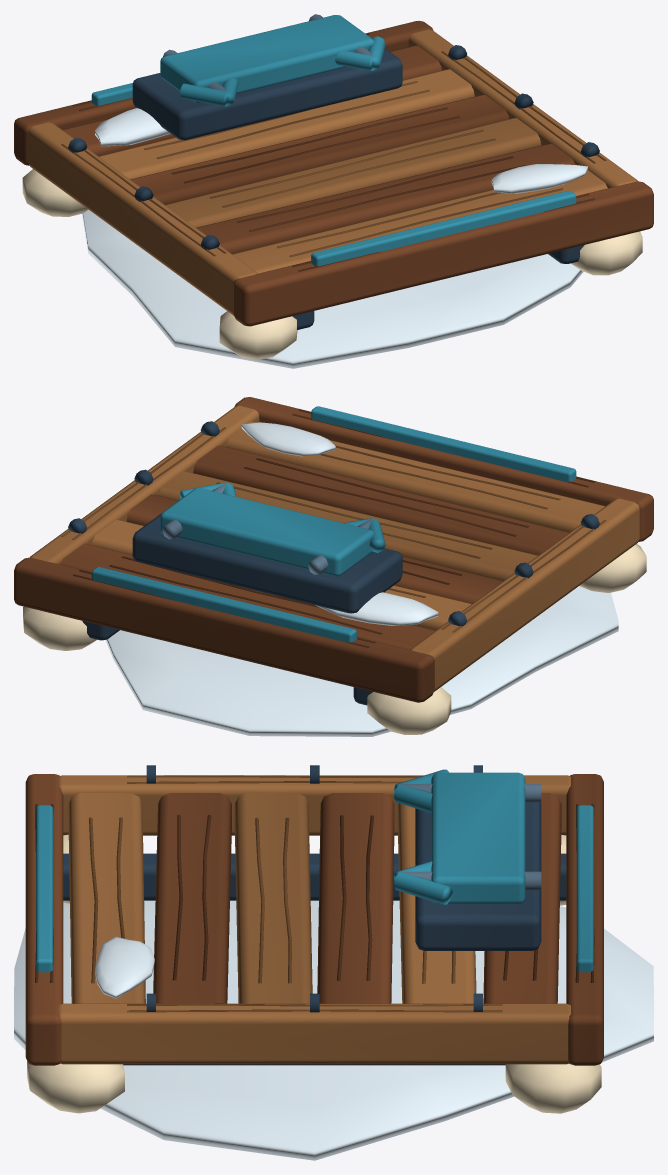
The model's file is pad_input.glb.
3 renders of one model, top to bottom at view 1: azimuth 30°, elevation 25°; view 2: azimuth 150°, elevation 25°; view 3: azimuth 270°, elevation 25°, orthographic. The views are drawn at different scales.
Parts seen in each view (by area): view 1: pad_input; view 2: pad_input; view 3: pad_input.
Part boxes in pixels (x1,y1,x2,y2): pad_input: (14, 14, 653, 368); pad_input: (14, 397, 653, 736); pad_input: (14, 765, 653, 1160).
Size of the model in its own units: 2.14 by 0.725 by 2.04.
